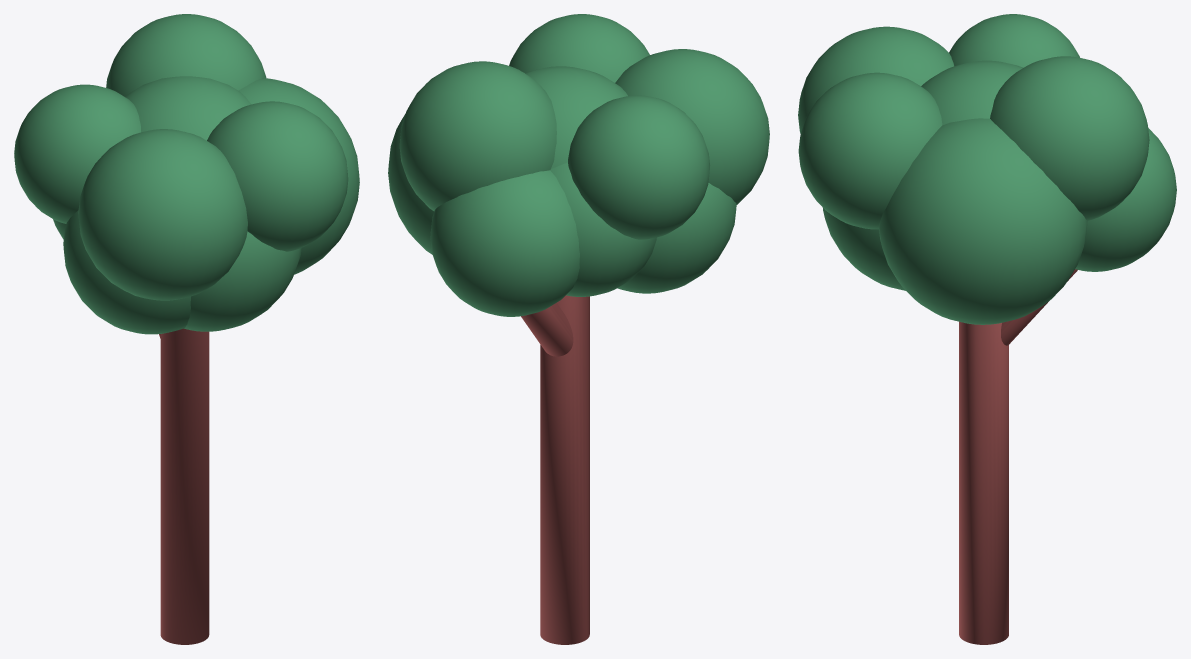
The model's file is btree.fbx.
3 views of the same model, side by side, from view 1: azimuth 30°, elevation 25°; view 2: azimuth 150°, elevation 25°; view 3: azimuth 270°, elevation 25° (orthographic). The views are drawn at different scales.
Parts seen in each view (by area): view 1: 구체.006, 실린더.008; view 2: 구체.006, 실린더.008; view 3: 구체.006, 실린더.008.
Part boxes in pixels (x1,y1,x2,y2): 구체.006: (14, 14, 359, 334); 실린더.008: (159, 328, 209, 644); 구체.006: (388, 14, 769, 316); 실린더.008: (521, 295, 589, 644); 구체.006: (798, 14, 1176, 324); 실린더.008: (959, 269, 1077, 644).
Size of the model in its own units: 2600 by 4628 by 2688.
